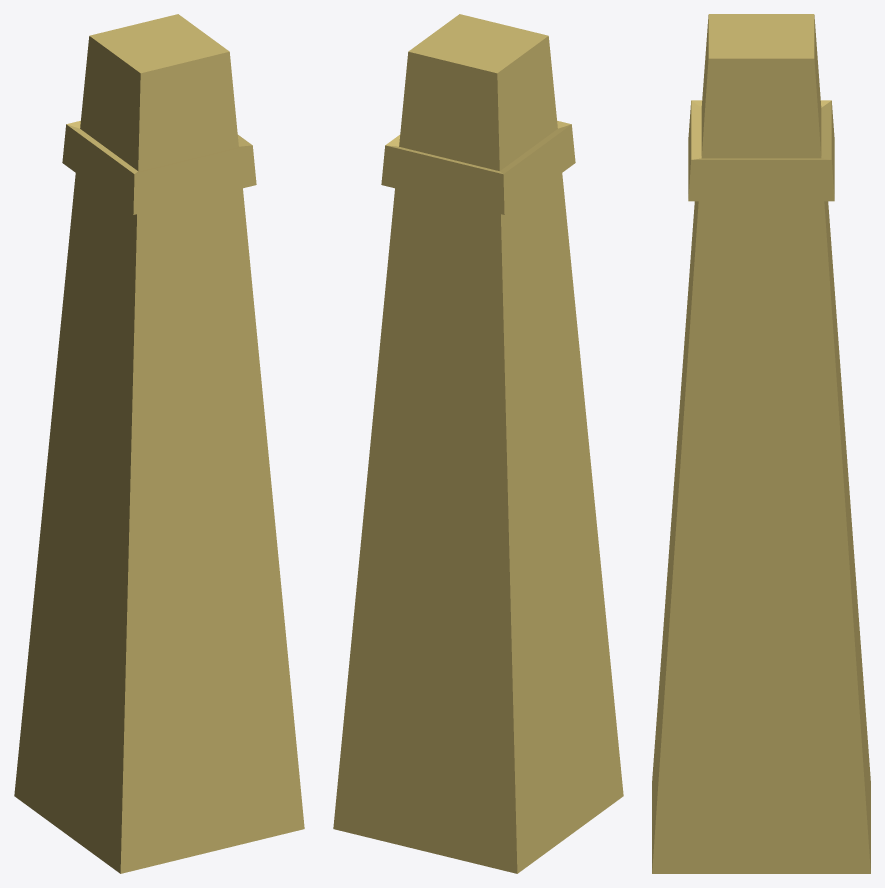
Rendered from tower2.fbx.
3 views of the same model, side by side, from view 1: azimuth 30°, elevation 25°; view 2: azimuth 150°, elevation 25°; view 3: azimuth 270°, elevation 25° (orthographic). The views are drawn at different scales.
Visible parts, largest first — view 1: Cube.006; view 2: Cube.006; view 3: Cube.006.
Boxes of the visible parts, left/top/right/bottom form: Cube.006: left=14, top=14, right=304, bottom=873; Cube.006: left=333, top=14, right=623, bottom=873; Cube.006: left=652, top=14, right=870, bottom=873.
Size of the model in its own units: 97.58 by 389 by 97.58.
